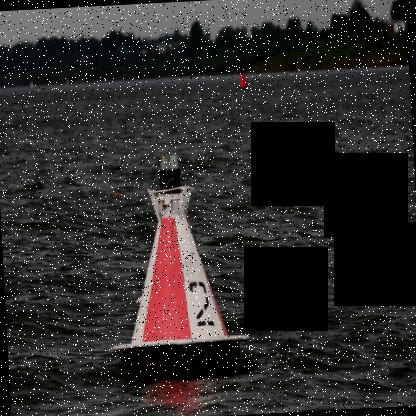Buoy: (102, 176, 254, 382), (236, 70, 250, 92)
